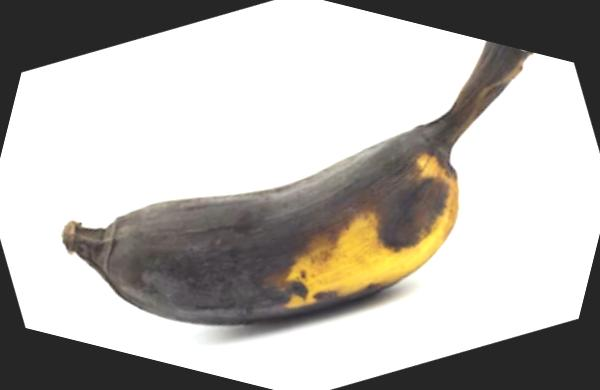Banana Overripe: (0, 0, 592, 390)
